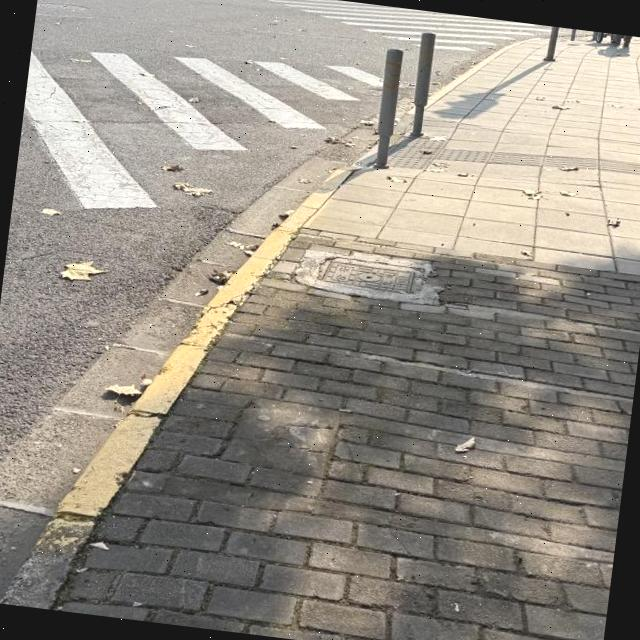curb: (3, 145, 375, 608), (426, 38, 535, 107)
